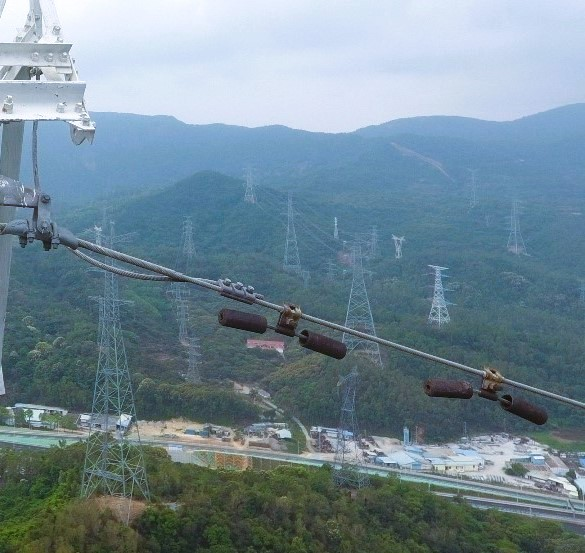Shockproof hammer: (415, 351, 556, 434), (211, 286, 349, 369)
